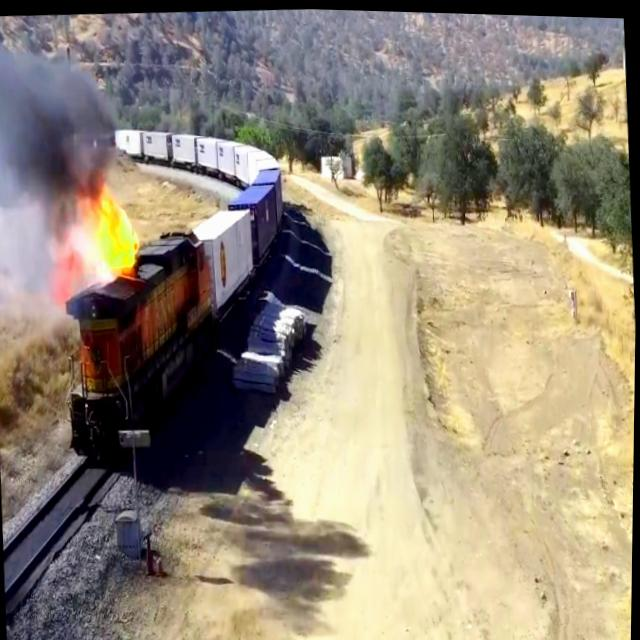fire: (62, 192, 140, 277)
smoke: (0, 14, 116, 211)
